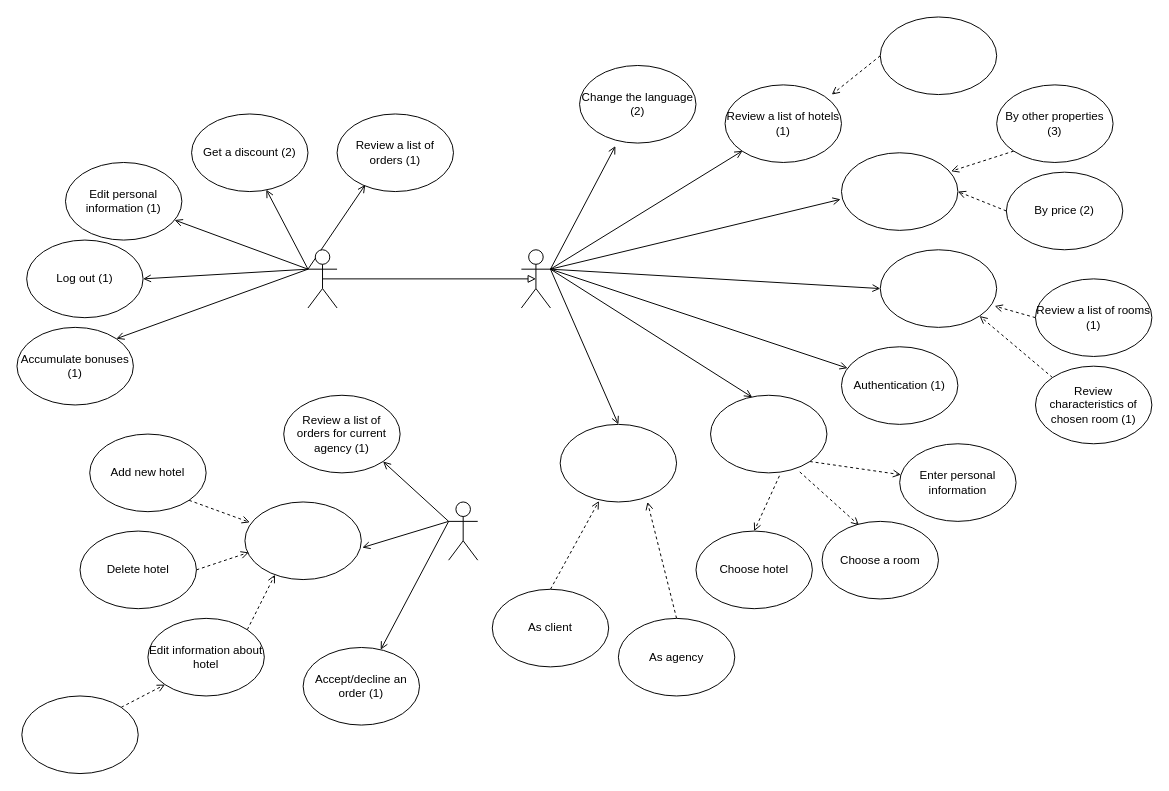
The diagram is 1169 pixels wide and 791 high, and some of its shapes have lost their labels. Here are the shapes that lost their labels. From the top down, the centre of each, then its label:
At pixel 938 55: "Review hotels on map (2)".
At pixel 899 191: "Sort hotels (2)".
At pixel 322 278: "Client".
At pixel 535 278: "Guest".
At pixel 938 288: "View characteristics of chosen hotel (1)".
At pixel 768 433: "Book hotel (1)".
At pixel 618 462: "Registration (1)".
At pixel 302 540: "Edit database of hotels (1)".
At pixel 463 530: "Manager".
At pixel 79 734: "Edit database of rooms (1)".
